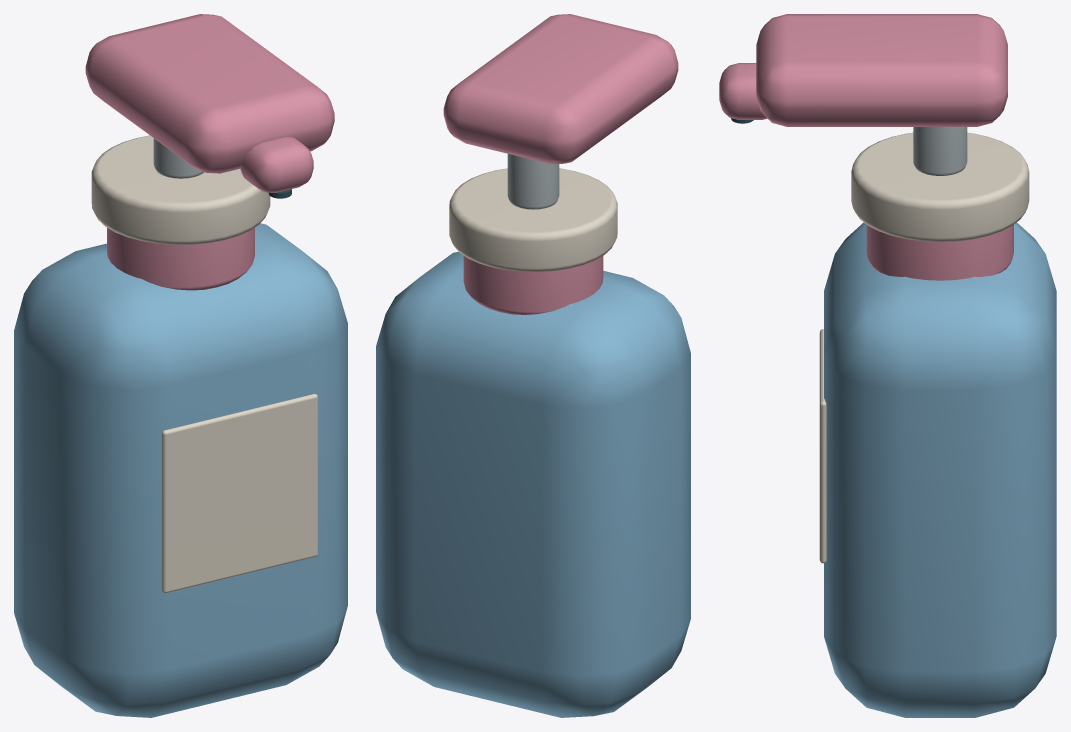
The model's file is lm_pump_soap.glb.
3 views of the same model, side by side, from view 1: azimuth 30°, elevation 25°; view 2: azimuth 150°, elevation 25°; view 3: azimuth 270°, elevation 25° (orthographic). The views are drawn at different scales.
Visible parts, largest first — view 1: prop; view 2: prop; view 3: prop.
Boxes of the visible parts, <box> form: prop: <box>14,14,347,717</box>; prop: <box>376,14,690,717</box>; prop: <box>719,14,1056,717</box>.
Bounding box in the file's own units: 0.082 × 0.182 × 0.087.
